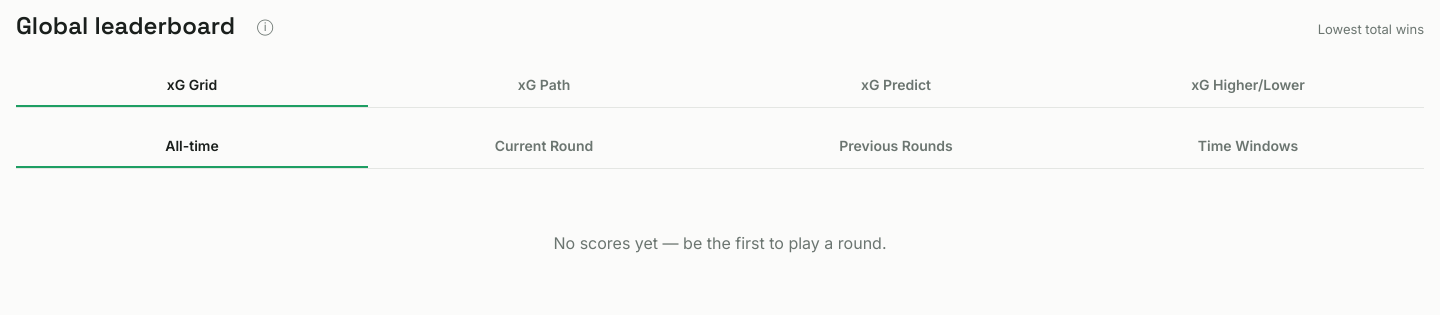
WindowedLeaderboard › REQ405: a failed window fetch shows an inline error message
Check: the text "No scores yet — be the first to play a round." is shown, box [554, 233, 886, 253]
Click the tab "Time Windows": (1248, 146) [1072, 124, 1424, 168]
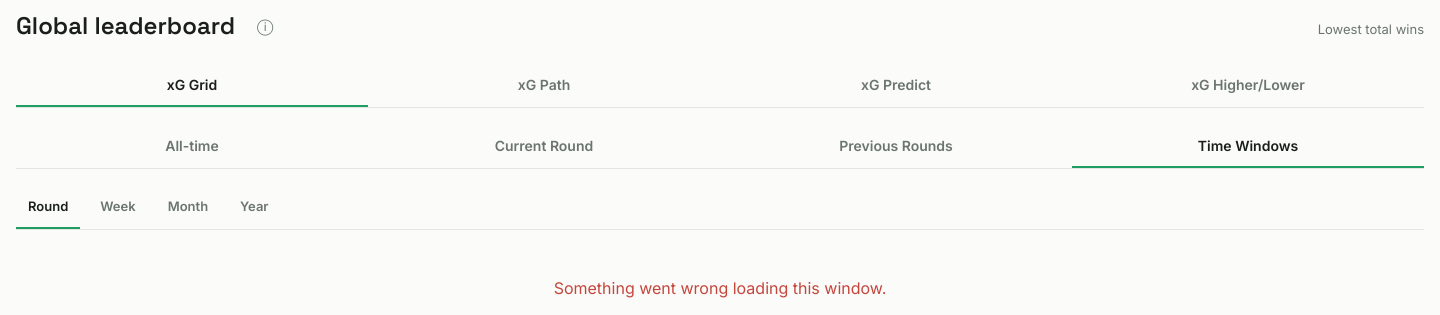
Check: the text "Something went wrong loading this window." is shown, box [554, 278, 886, 298]
